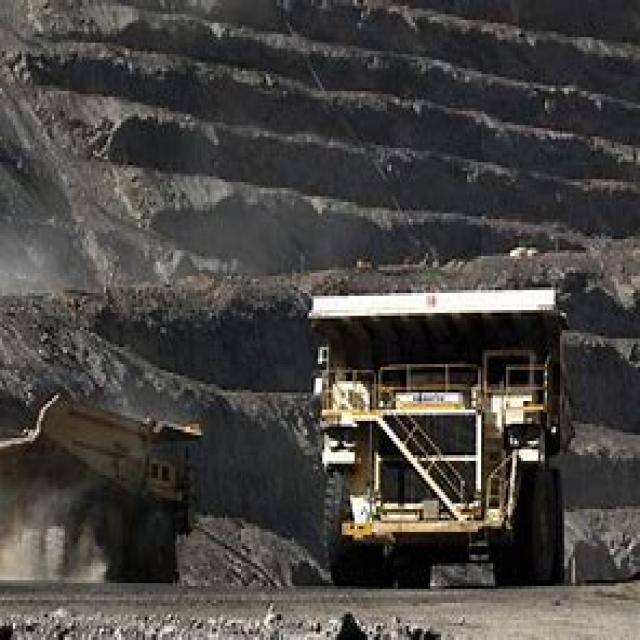dump_truck: (279, 259, 614, 597), (2, 358, 218, 592)
